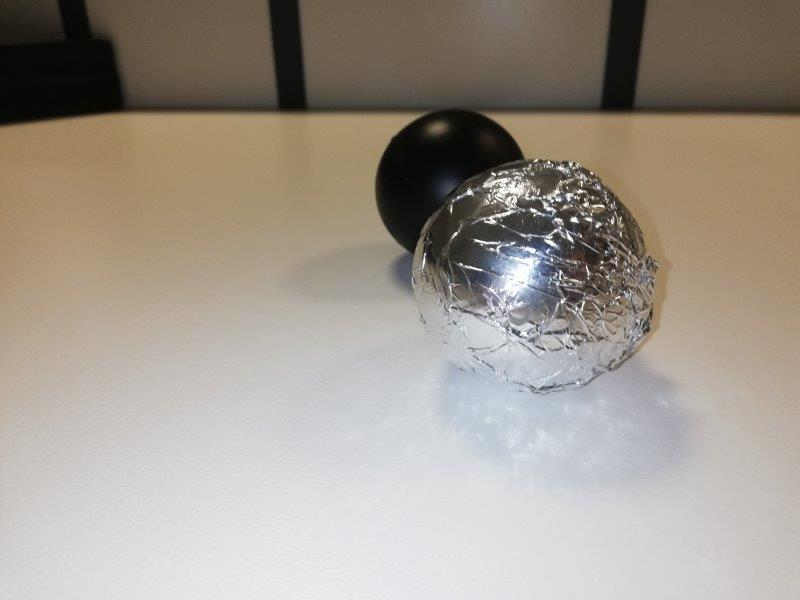bianca: (407, 160, 659, 392)
nera: (372, 106, 525, 260)
